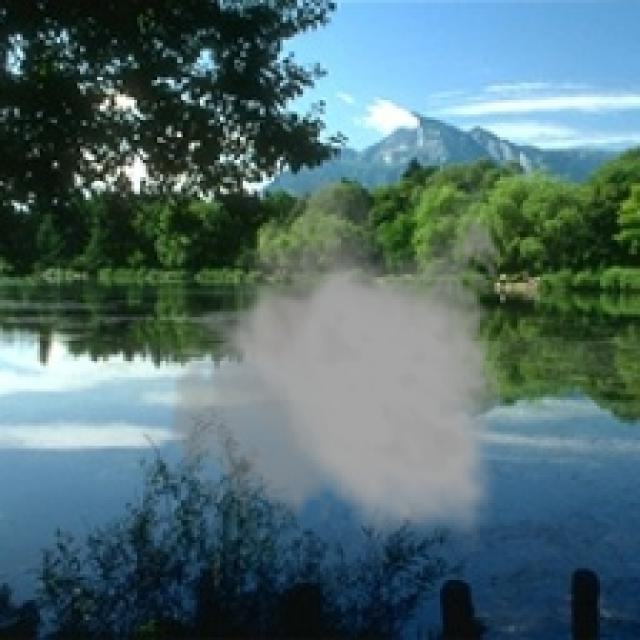smoke: (166, 174, 511, 552)
